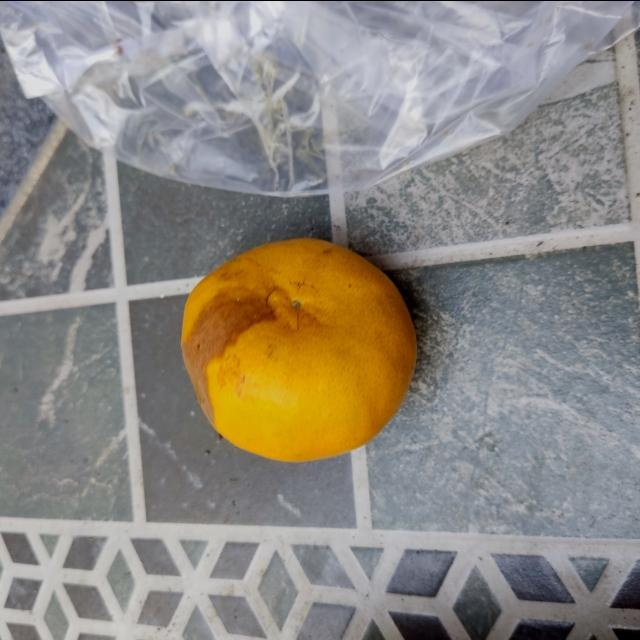agrume: (177, 233, 423, 463)
